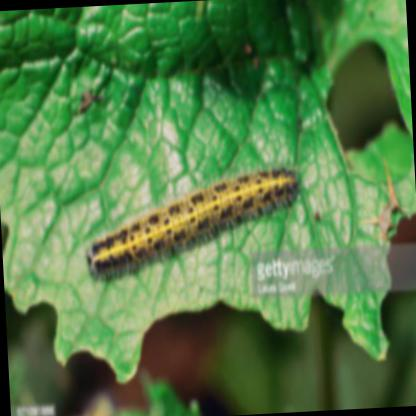pieris: (92, 172, 298, 287)
